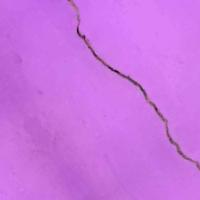crack: (66, 0, 199, 168)
